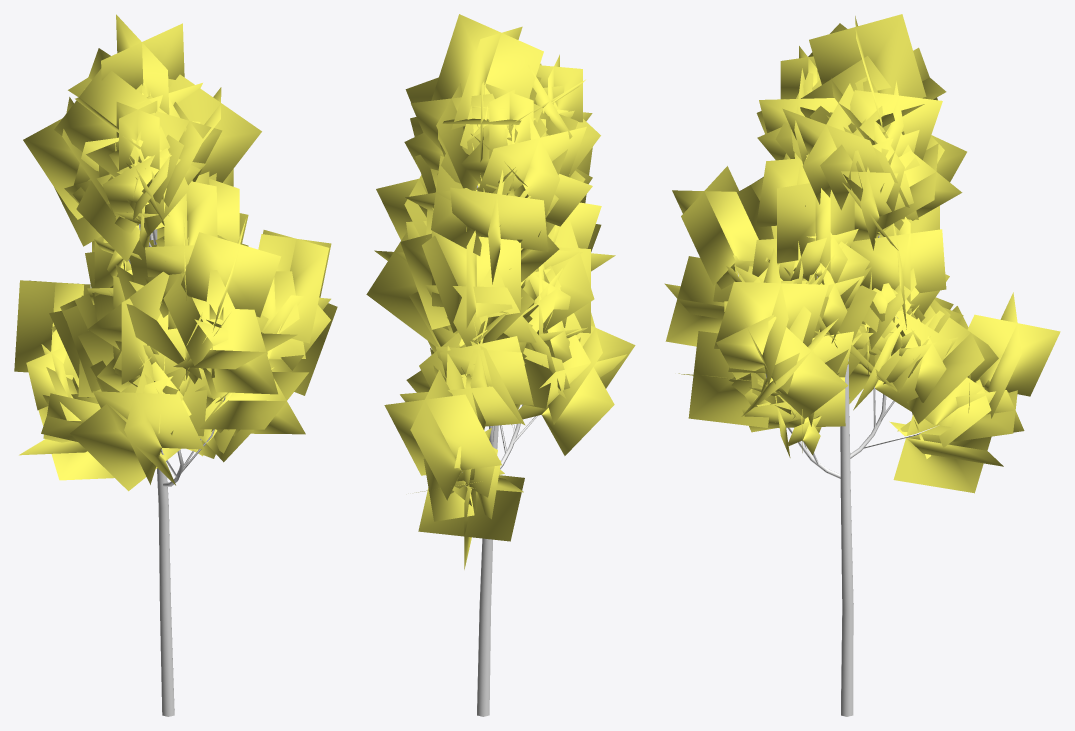
Rendered from aspen_small_v1_lod1.glb.
The picture shows the model from 3 angles, left to right: view 1: azimuth 30°, elevation 25°; view 2: azimuth 150°, elevation 25°; view 3: azimuth 270°, elevation 25°; orthographic projection. The views are drawn at different scales.
Parts seen in each view (by area): view 1: Leaves, Branches; view 2: Leaves, Branches; view 3: Leaves, Branches.
Boxes of the visible parts, left/top/right/bottom form: Leaves: left=14, top=14, right=337, bottom=491; Branches: left=128, top=224, right=225, bottom=716; Leaves: left=366, top=14, right=635, bottom=569; Branches: left=462, top=185, right=537, bottom=716; Leaves: left=664, top=14, right=1060, bottom=493; Branches: left=737, top=235, right=938, bottom=716.
Size of the model in its own units: 15.03 by 39.14 by 20.45.
